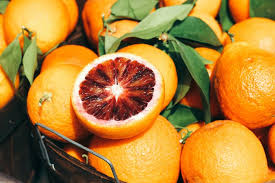orange: (84, 120, 184, 183), (177, 119, 270, 183), (214, 42, 275, 126), (21, 67, 90, 141)
